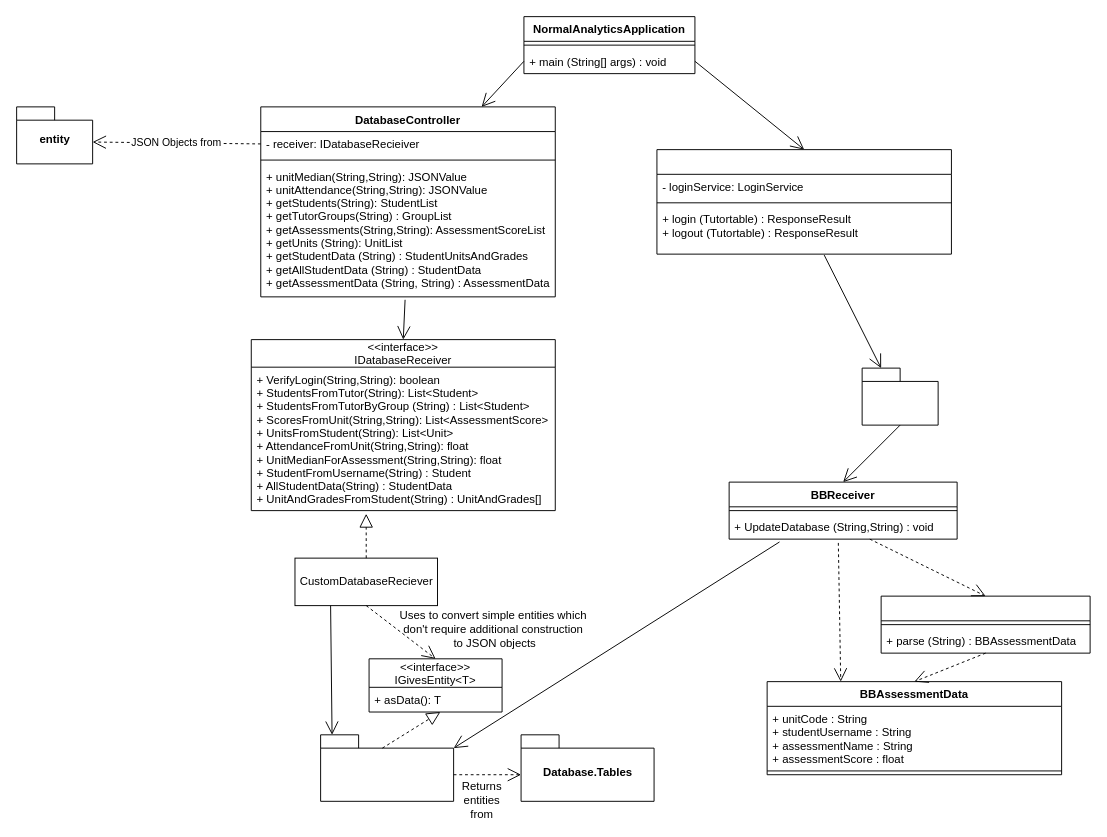
This 1107x837 diagram has some shape labels left out. The box of each missing label's shape, as (x1, y1, x2, y2) in pixels:
Database.Repositories: (320, 734, 454, 801)
GradeParser: (880, 595, 1090, 653)
LoginController: (656, 149, 951, 254)
service: (861, 367, 938, 425)
